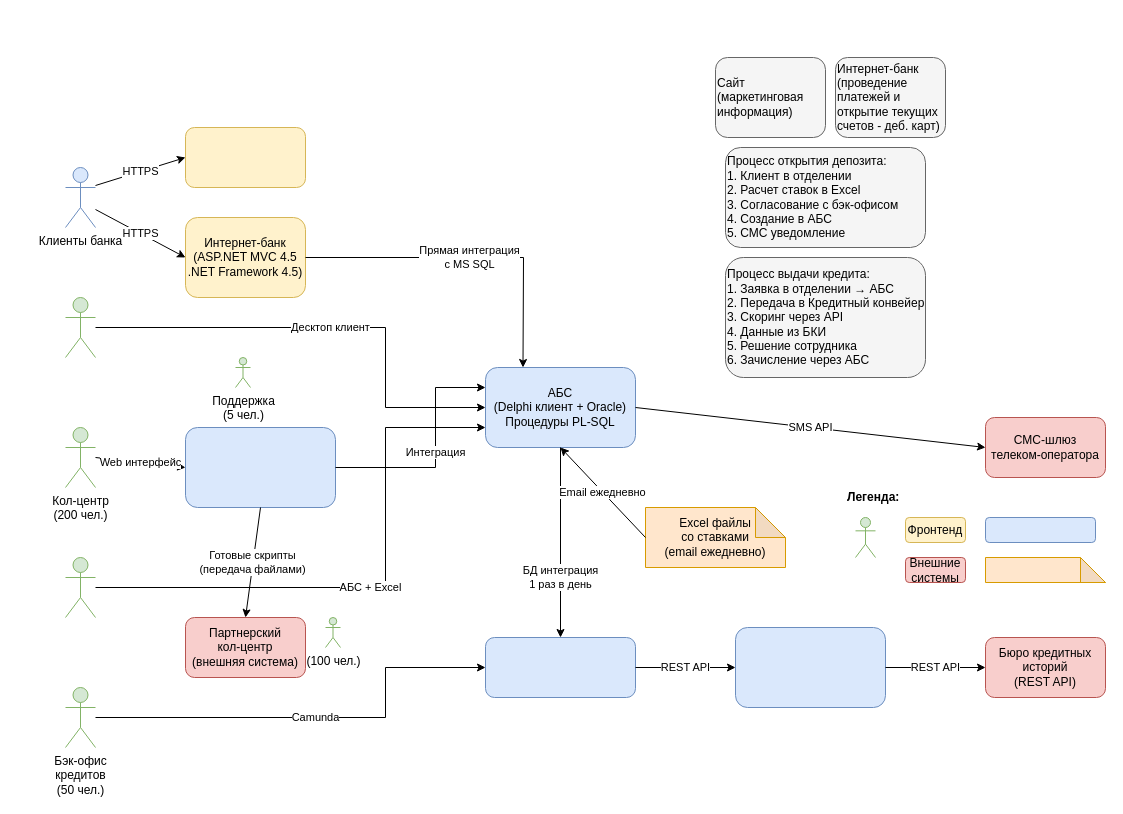
The diagram is 1123 pixels wide and 814 high, and some of its shapes have lost their labels. The centre of each missing label's shape, as x and y in pixels:
Бэк-офис депозитов (50 чел.): [80,587]
Внутренние системы: [1040,529]
Данные/файлы: [1045,569]
Кредитный конвейер (Camunda BPM + Oracle): [560,667]
Пользователи: [865,537]
Сайт PHP + React.js): [245,157]
Система кол-центра (React.js + Java Spring Boot PostgreSQL): [260,467]
Система кредитного скоринга (Python Flask + PostgreSQL): [810,667]
Сотрудники отделений (500 чел.): [80,327]
